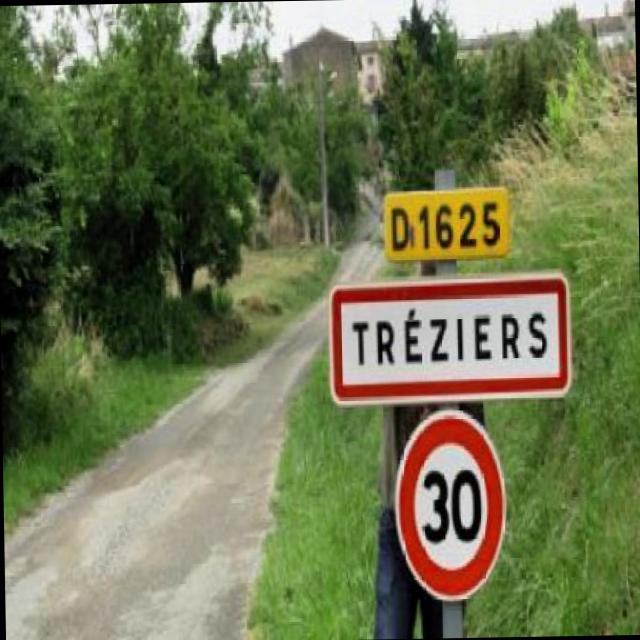Ograniczenie predkosci do 30: (389, 404, 507, 609)
